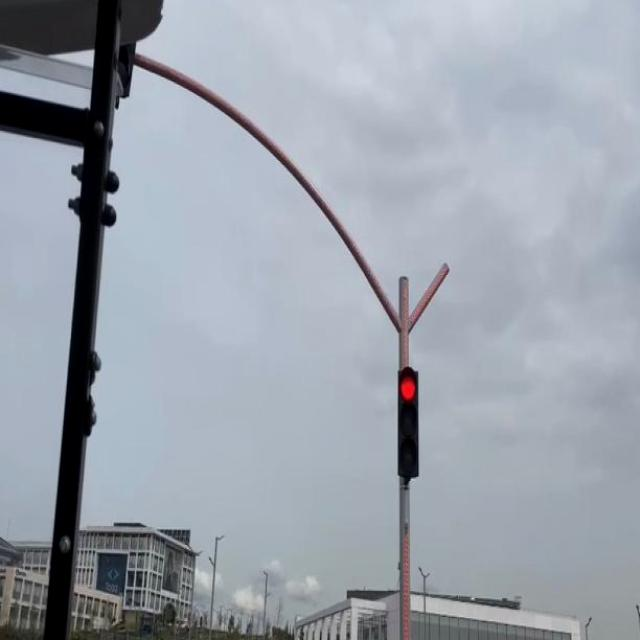kirmizi: (398, 366, 419, 483)
